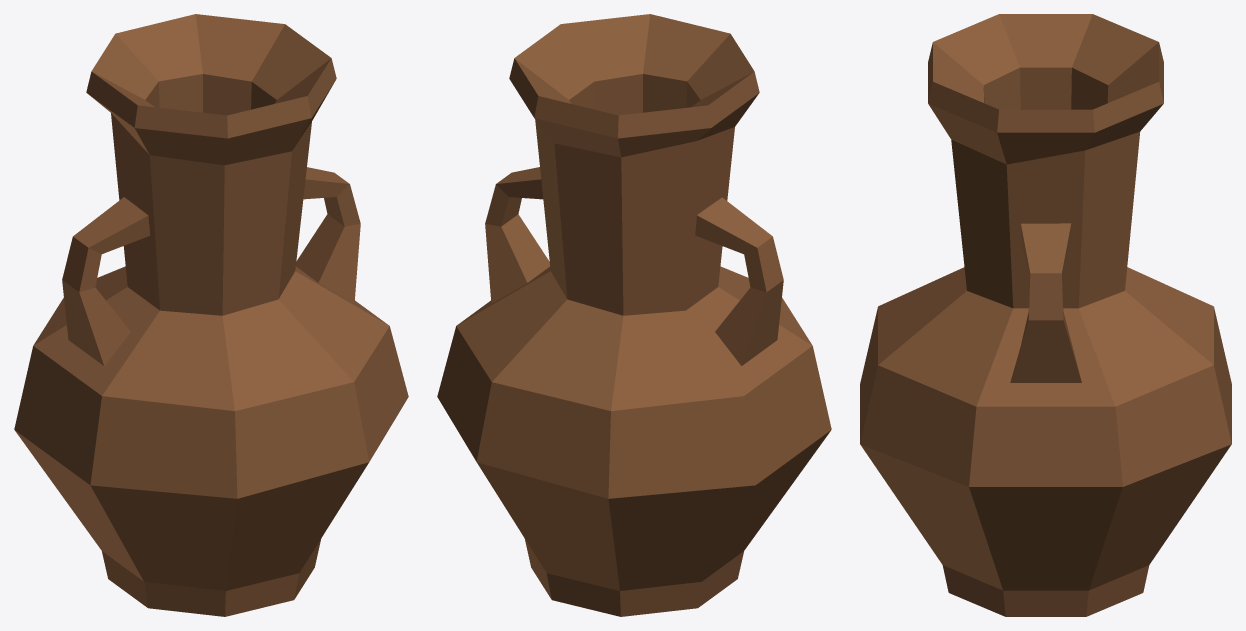
Rendered from egypt-amphora-tall.glb.
3 renders of one model, left to right at view 1: azimuth 30°, elevation 25°; view 2: azimuth 150°, elevation 25°; view 3: azimuth 270°, elevation 25°, orthographic.
Visible parts, largest first — view 1: egypt-amphora-tall; view 2: egypt-amphora-tall; view 3: egypt-amphora-tall.
Part boxes in pixels (x1,y1,x2,y2): egypt-amphora-tall: [14, 14, 408, 616]; egypt-amphora-tall: [437, 14, 831, 616]; egypt-amphora-tall: [860, 14, 1231, 616].
Bounding box in the file's own units: 0.5892 × 0.8994 × 0.5895.
1 material, 1 textured.
